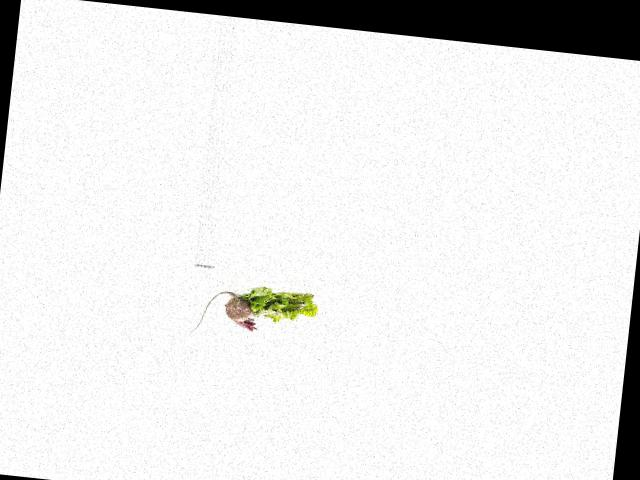beet: (190, 287, 261, 339)
